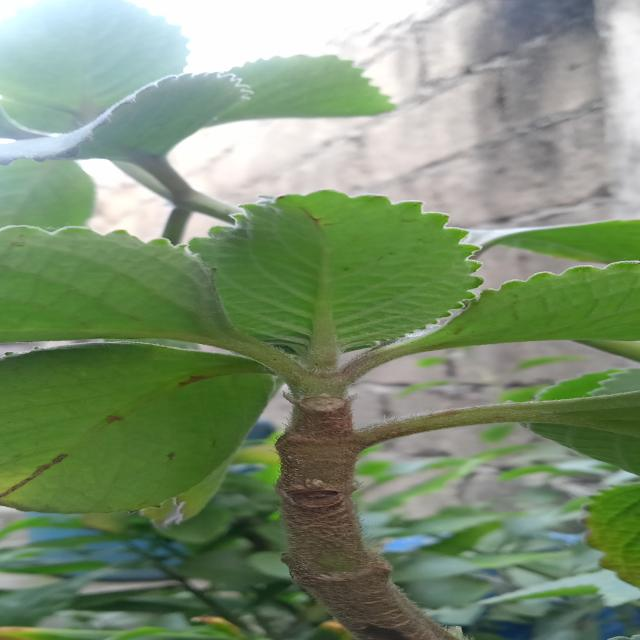Oregano: (189, 175, 510, 374)
